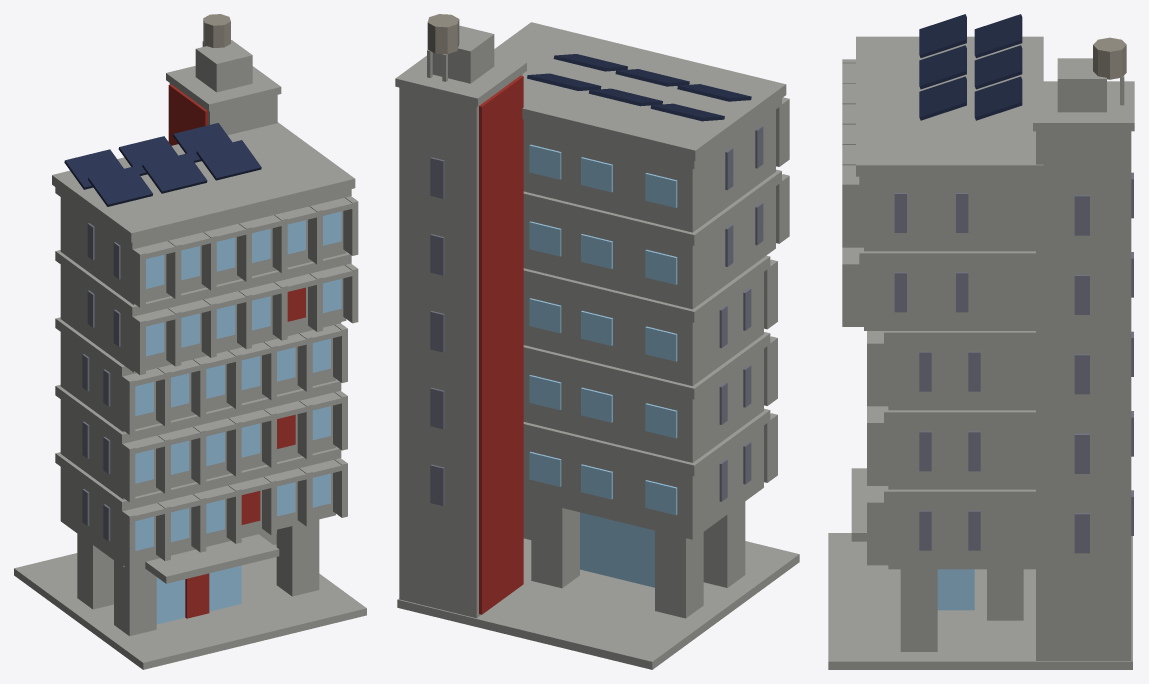
Rendered from tower-1x1-6f-brutalist-a-solar.glb.
3 views of the same model, side by side, from view 1: azimuth 30°, elevation 25°; view 2: azimuth 150°, elevation 25°; view 3: azimuth 270°, elevation 25° (orthographic). The views are drawn at different scales.
Parts seen in each view (by area): view 1: tower-1x1-6f-brutalist-a-solar; view 2: tower-1x1-6f-brutalist-a-solar; view 3: tower-1x1-6f-brutalist-a-solar.
Boxes of the visible parts, x1=… form: tower-1x1-6f-brutalist-a-solar: x1=14, y1=14, x2=366, y2=669; tower-1x1-6f-brutalist-a-solar: x1=395, y1=14, x2=799, y2=669; tower-1x1-6f-brutalist-a-solar: x1=828, y1=14, x2=1134, y2=669.
Size of the model in its own units: 0.995 by 2.18 by 0.995.
1 material, 1 textured.
